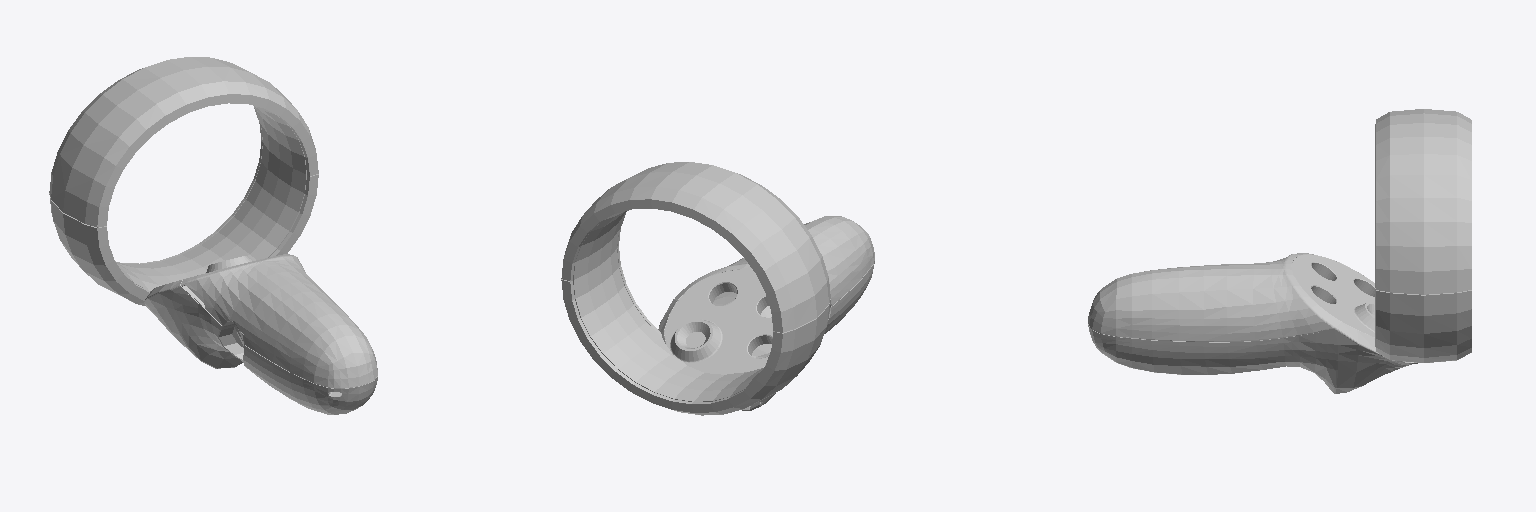
Rendered from body.obj.
3 renders of one model, left to right at view 1: azimuth 30°, elevation 25°; view 2: azimuth 150°, elevation 25°; view 3: azimuth 270°, elevation 25°, orthographic.
Parts seen in each view (by area): view 1: body; view 2: body; view 3: body.
Part boxes in pixels (x1,y1,x2,y2): body: (49, 57, 377, 414); body: (561, 162, 874, 415); body: (1088, 109, 1471, 393).
Size of the model in its own units: 0.0962 by 0.1011 by 0.1323.